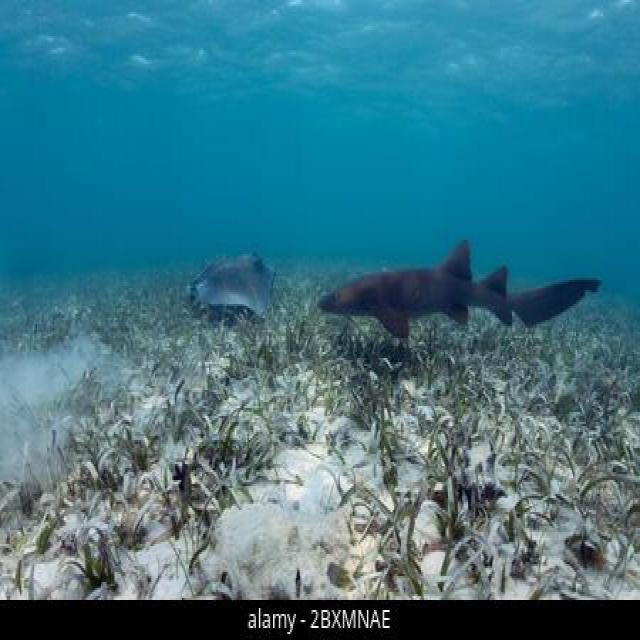Shark: (307, 226, 612, 356)
